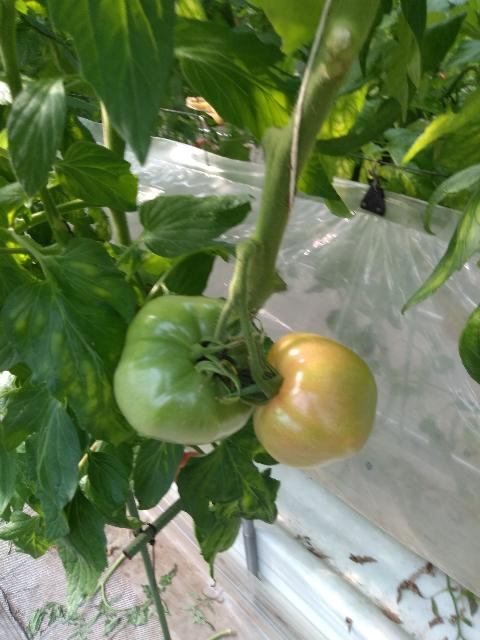b_green: (112, 295, 265, 445)
b_half_ripened: (253, 332, 378, 467)
